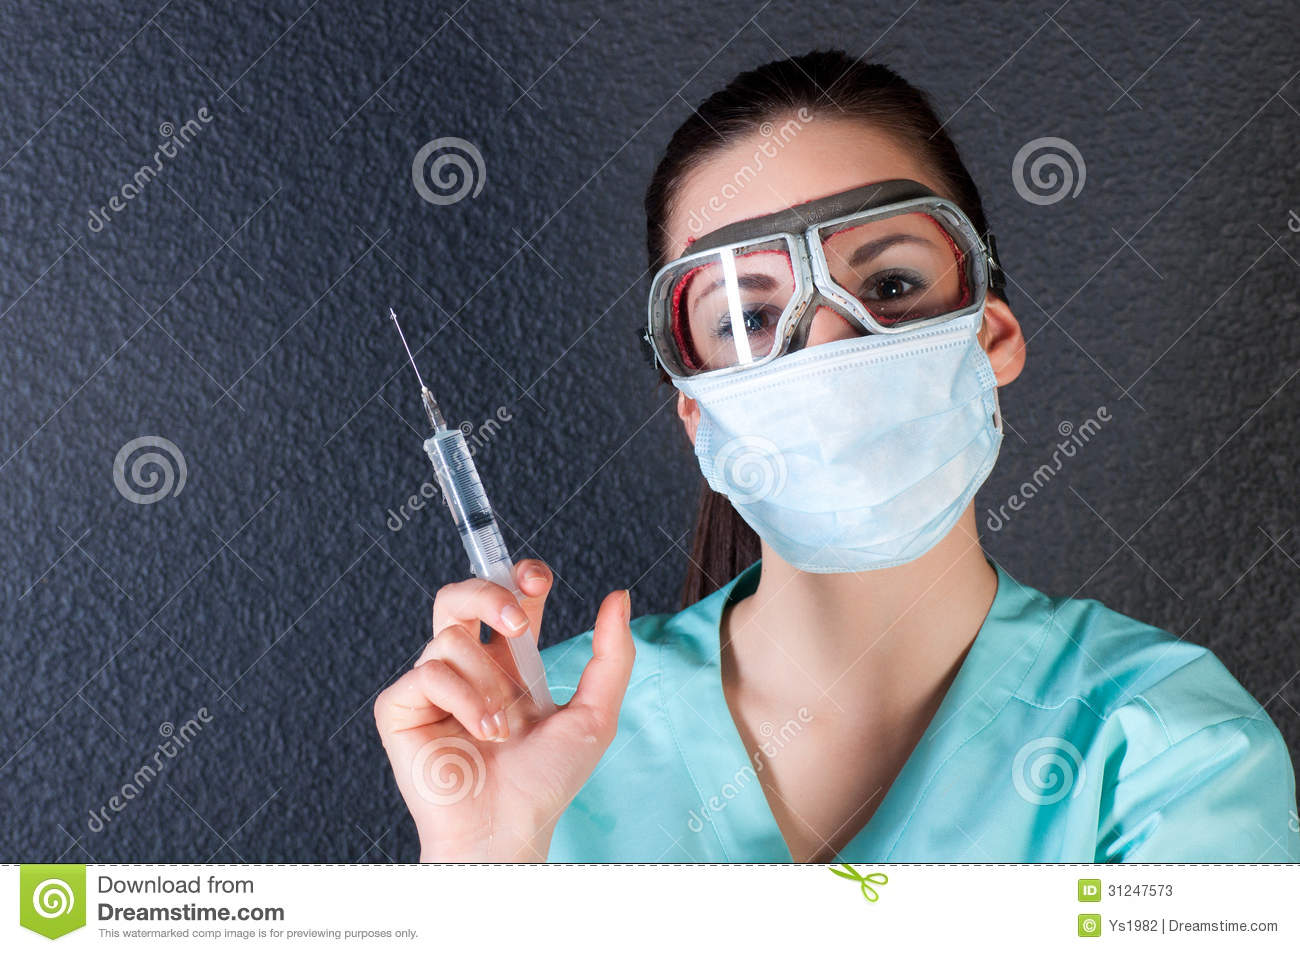mask: (694, 322, 989, 576)
